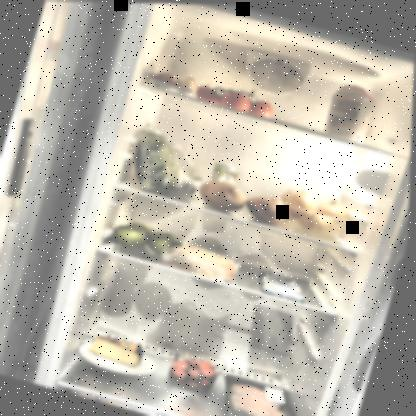apple: (110, 214, 192, 262)
cheese: (88, 331, 151, 369)
chicken: (214, 370, 313, 415)
chocolate: (256, 269, 313, 303)
eggs: (150, 66, 202, 97)
heavy_cream: (205, 160, 243, 208)
onion: (272, 181, 356, 242)
spinach: (121, 125, 214, 205)
strawberries: (167, 350, 224, 395)
sweet_potato: (195, 173, 293, 227)
tomato: (188, 72, 283, 120)
